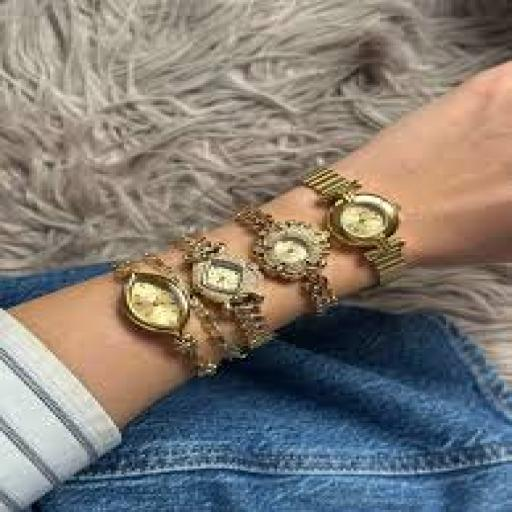KolSaati: (83, 260, 194, 366), (316, 178, 414, 258), (263, 225, 334, 298), (195, 241, 258, 312)
